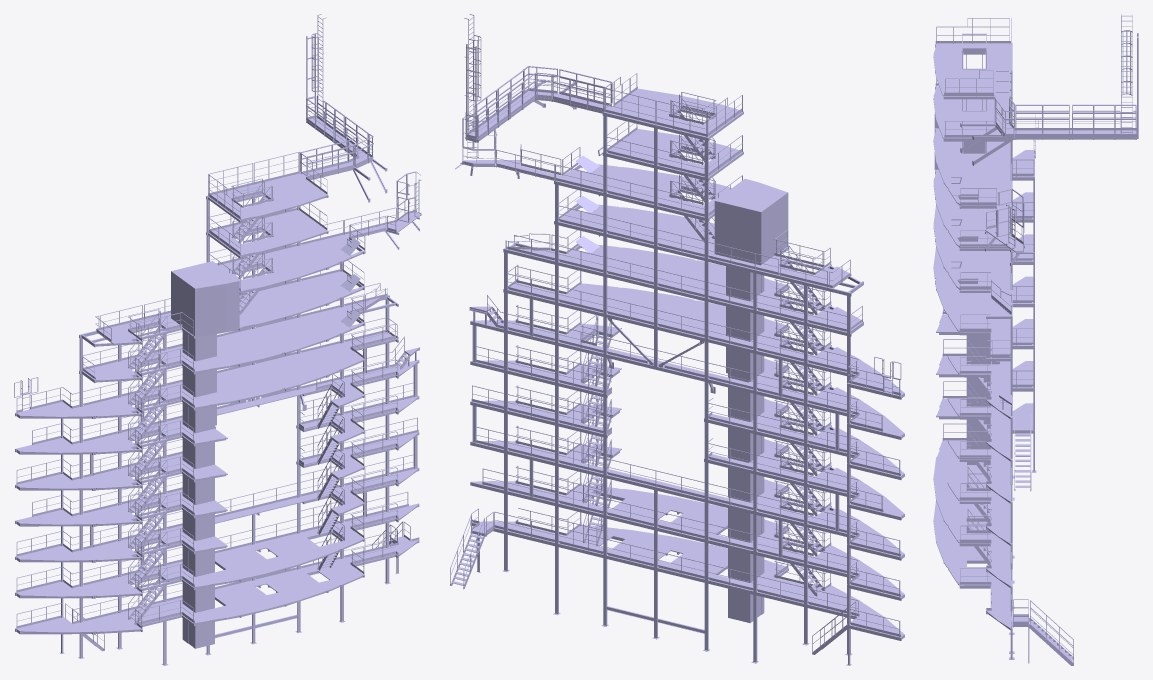
The picture shows the model from 3 angles, left to right: view 1: azimuth 30°, elevation 25°; view 2: azimuth 150°, elevation 25°; view 3: azimuth 270°, elevation 25°; orthographic projection. The views are drawn at different scales.
Visible parts, largest first — view 1: S__000001BC0012CDC0.001; view 2: S__000001BC0012CDC0.001; view 3: S__000001BC0012CDC0.001.
Boxes of the visible parts, <box> form: S__000001BC0012CDC0.001: <box>14,14,421,665</box>; S__000001BC0012CDC0.001: <box>450,14,904,665</box>; S__000001BC0012CDC0.001: <box>933,14,1138,665</box>.
Size of the model in its own units: 29.04 by 39.12 by 11.01.
